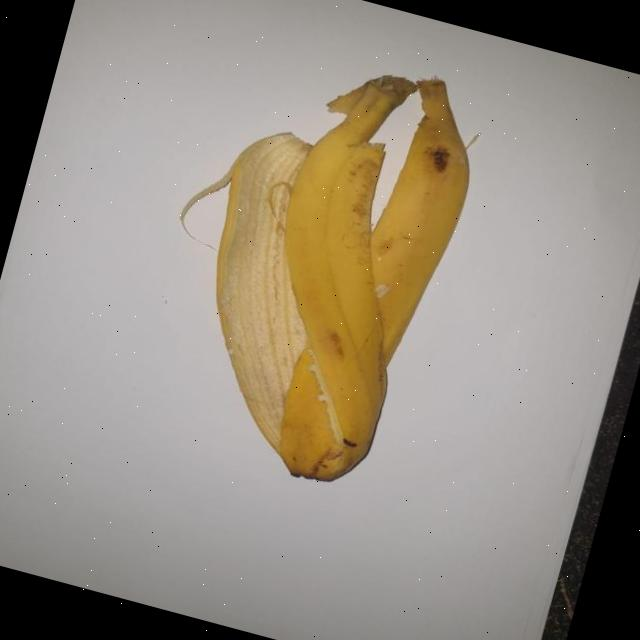banana-peel: (122, 20, 496, 501), (336, 69, 494, 378)
